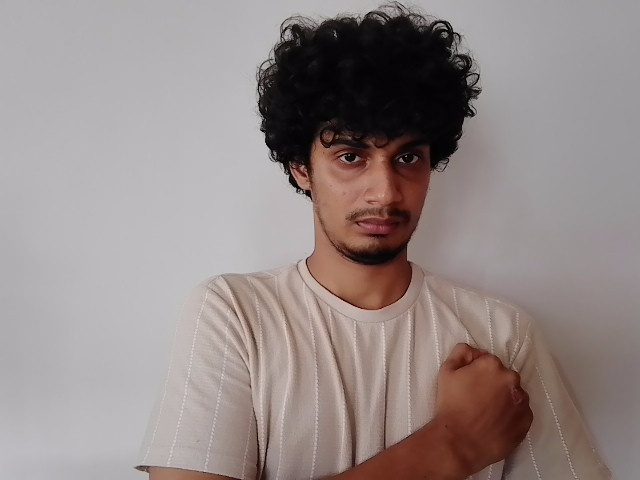sorry: (372, 265, 610, 480)
